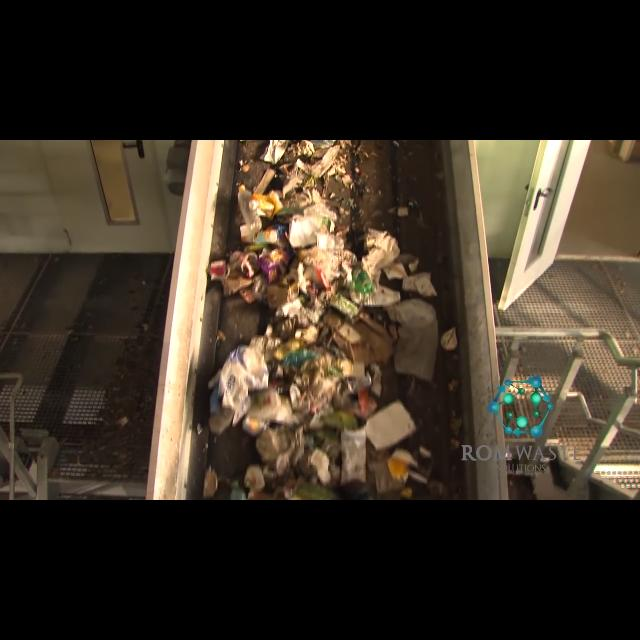trash: (235, 185, 262, 233), (353, 266, 373, 294)
